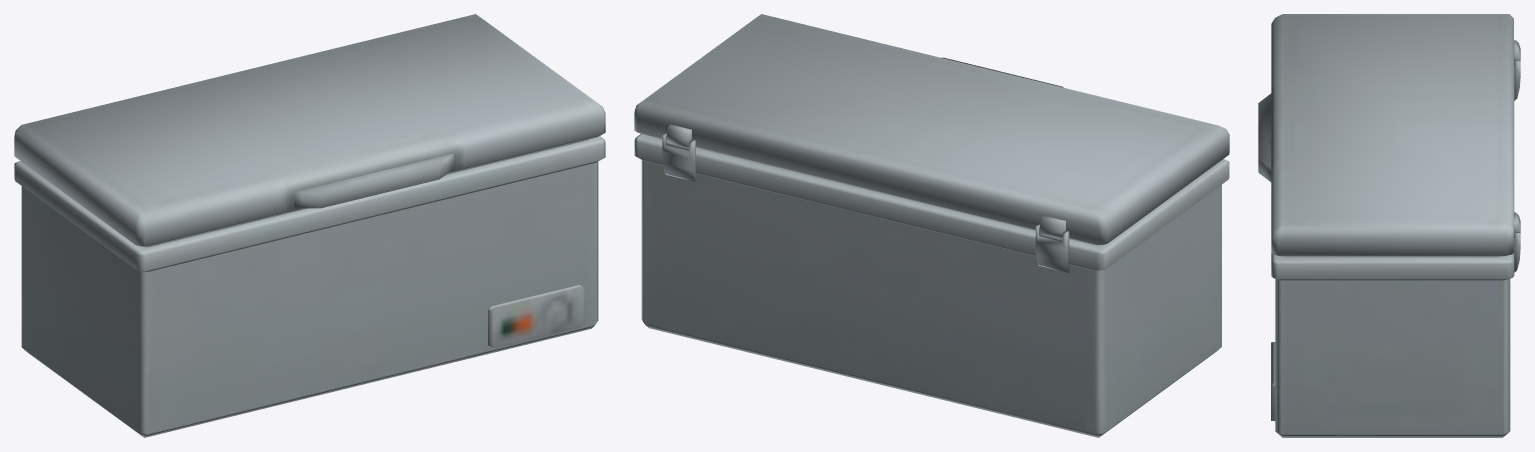
The picture shows the model from 3 angles, left to right: view 1: azimuth 30°, elevation 25°; view 2: azimuth 150°, elevation 25°; view 3: azimuth 270°, elevation 25°; orthographic projection. The views are drawn at different scales.
Bounding box in the file's own units: 16.48 × 7.58 × 8.38.
Materials: 1 (1 with a texture image).
